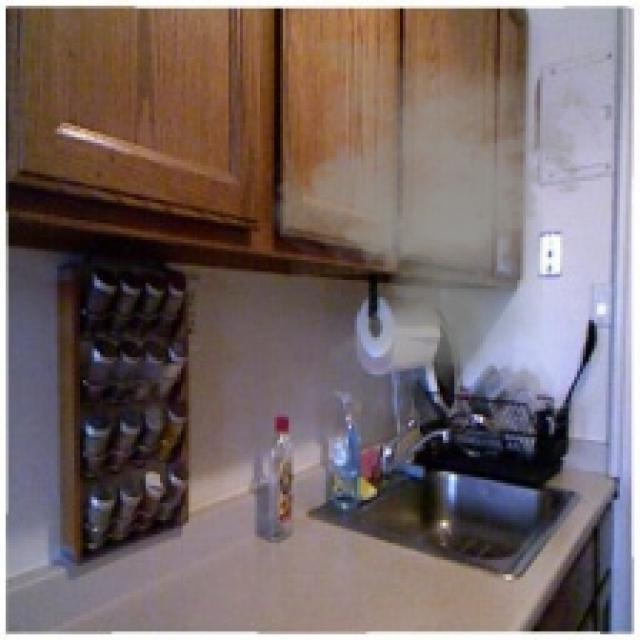Smoke: (257, 37, 606, 386)
